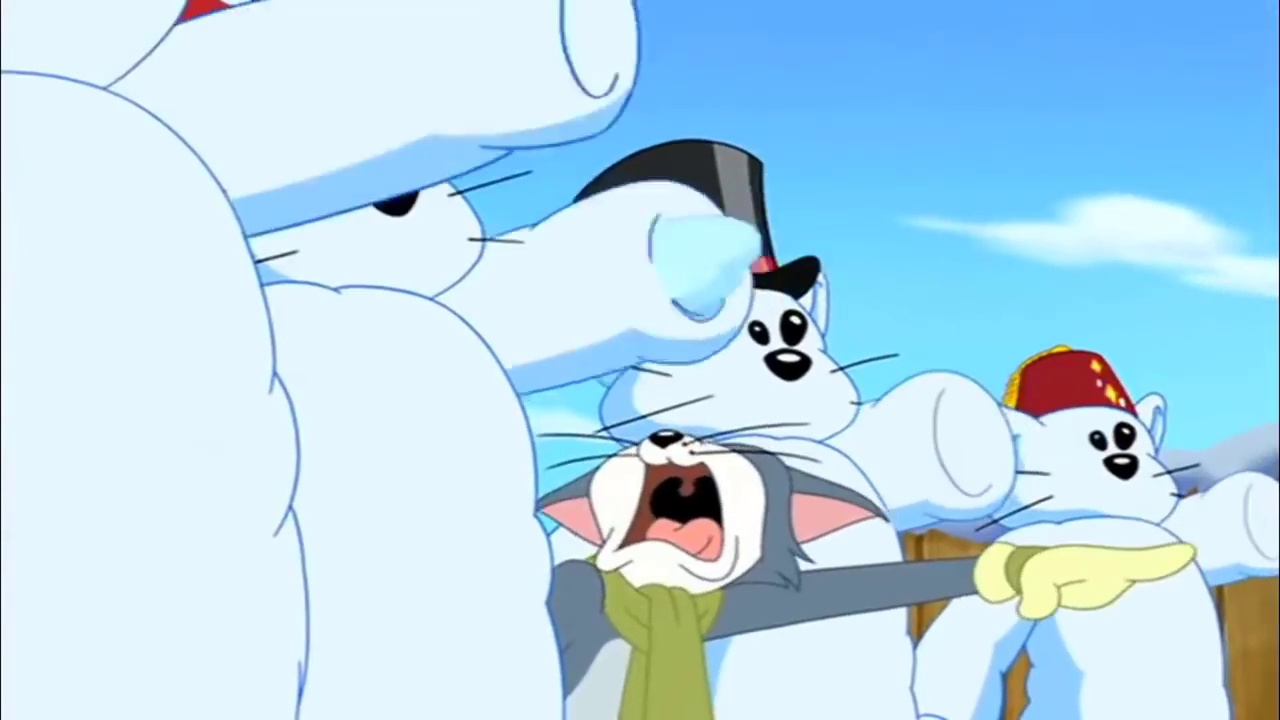face: (591, 428, 775, 588)
